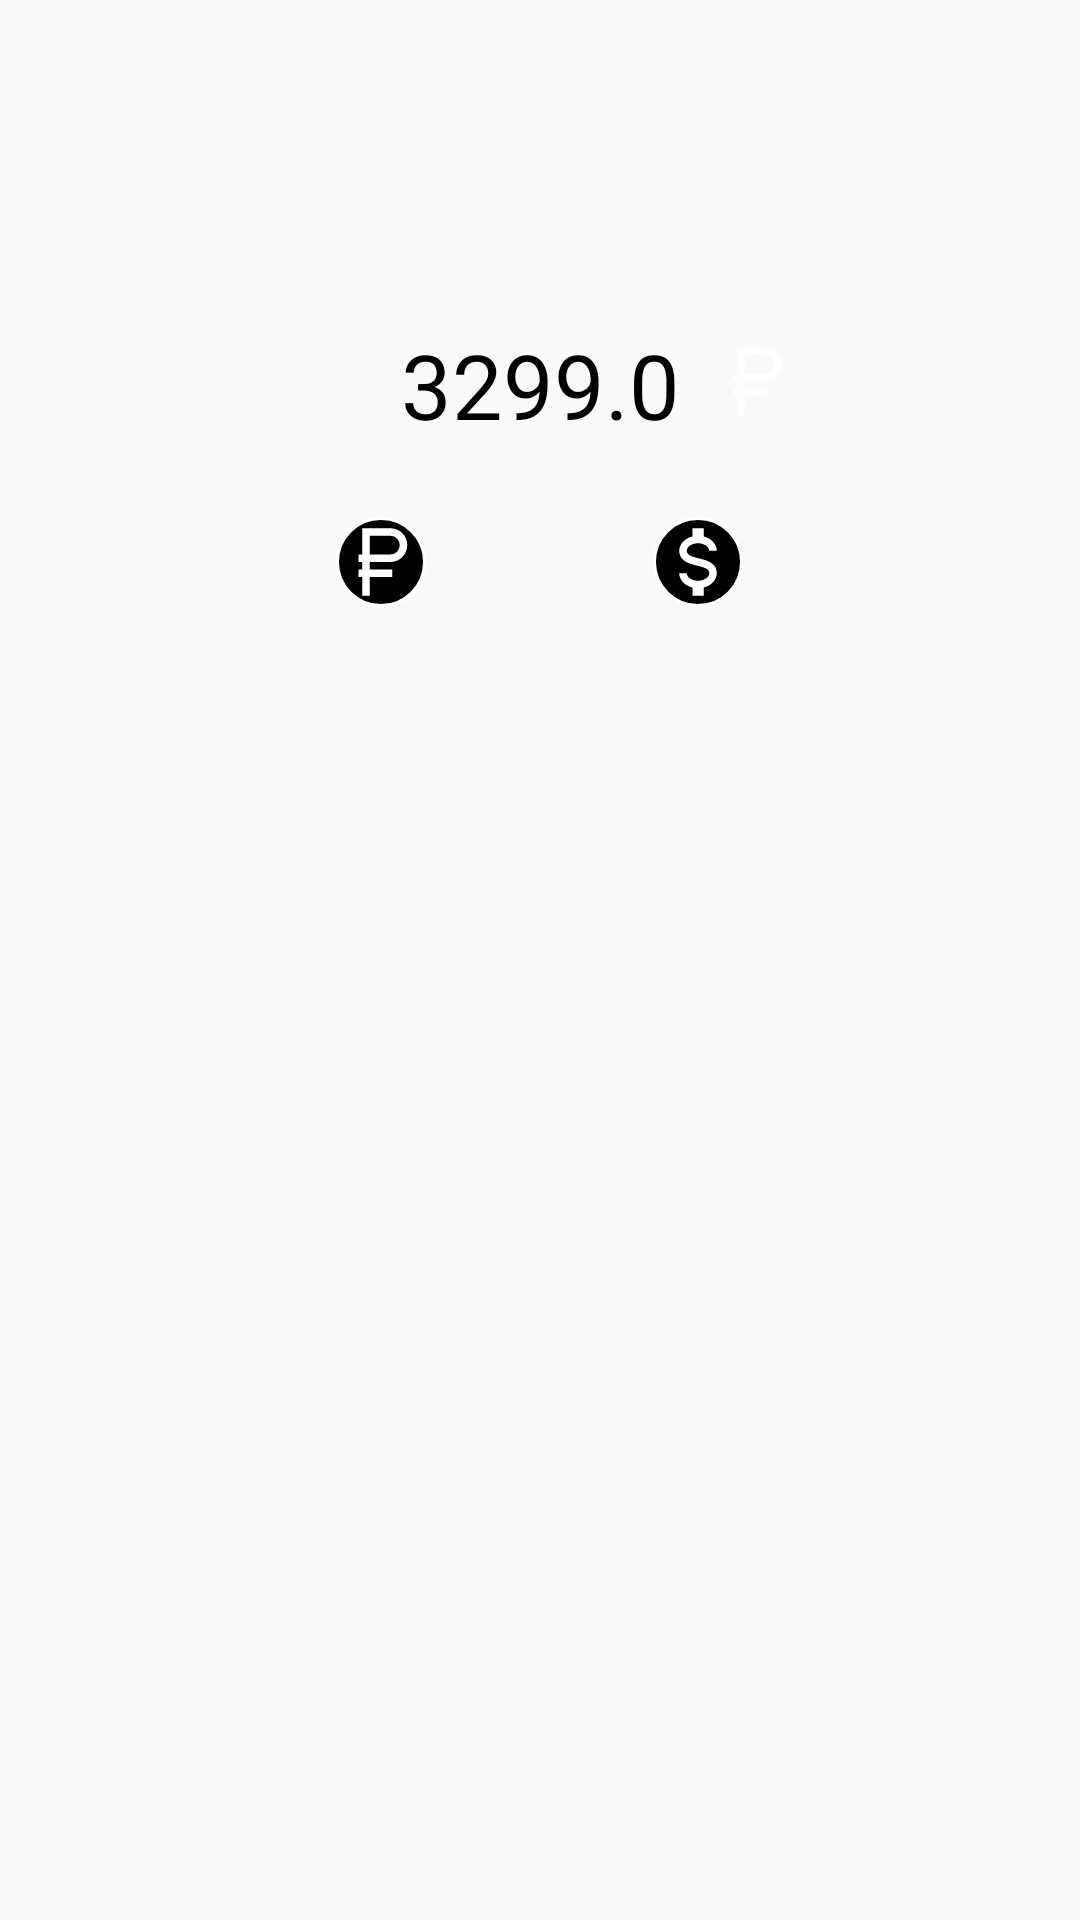

Icons on this 1080*1920 Android screen, each with its box as {"left": x1, "top": y1, "right": x2, "bottom": y2}:
currency rub: {"left": 339, "top": 520, "right": 423, "bottom": 604}
currency usd: {"left": 656, "top": 520, "right": 740, "bottom": 604}
